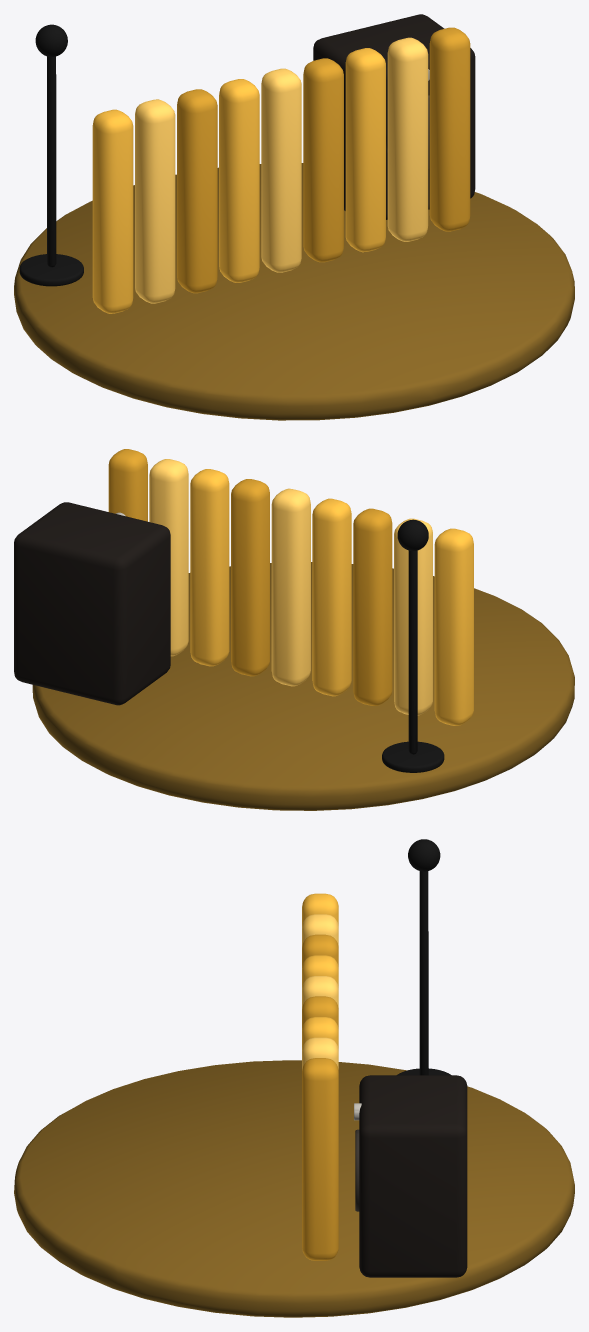
The model's file is strip.glb.
3 views of the same model, one above another, from view 1: azimuth 30°, elevation 25°; view 2: azimuth 150°, elevation 25°; view 3: azimuth 270°, elevation 25° (orthographic). The views are drawn at different scales.
Parts seen in each view (by area): view 1: plat, strip_bar_0, strip_bar_7, strip_bar_8, strip_bar_4, strip_bar_5, strip_bar_1, strip_bar_2, strip_bar_6, strip_bar_3, amp, mpole (+2 smaller); view 2: plat, amp, strip_bar_3, strip_bar_4, strip_bar_6, strip_bar_0, strip_bar_2, strip_bar_5, strip_bar_1, strip_bar_7, strip_bar_8, mpole (+2 smaller); view 3: plat, amp, strip_bar_8, mpole, mic, strip_bar_0, strip_bar_2, strip_bar_3, strip_bar_6, strip_bar_4, strip_bar_5, strip_bar_1 (+1 smaller).
Part boxes in pixels (<box>): plat: <box>14,163,574,420</box>; strip_bar_0: <box>92,109,133,313</box>; strip_bar_7: <box>387,37,428,241</box>; strip_bar_8: <box>429,27,470,231</box>; strip_bar_4: <box>261,68,301,272</box>; strip_bar_5: <box>303,58,343,262</box>; strip_bar_1: <box>135,99,175,303</box>; strip_bar_2: <box>177,89,217,293</box>; strip_bar_6: <box>345,48,385,252</box>; strip_bar_3: <box>219,79,259,282</box>; amp: <box>313,14,475,219</box>; mpole: <box>47,56,56,267</box>; plat: <box>32,562,574,810</box>; amp: <box>14,502,170,705</box>; strip_bar_3: <box>312,498,351,696</box>; strip_bar_4: <box>271,488,310,686</box>; strip_bar_6: <box>190,469,229,666</box>; strip_bar_0: <box>434,528,473,725</box>; strip_bar_2: <box>353,508,392,705</box>; strip_bar_5: <box>231,479,269,676</box>; strip_bar_1: <box>394,518,432,715</box>; strip_bar_7: <box>149,459,188,656</box>; strip_bar_8: <box>108,449,147,521</box>; mpole: <box>408,550,417,754</box>; plat: <box>14,1060,574,1317</box>; amp: <box>359,1075,467,1277</box>; strip_bar_8: <box>302,1058,338,1260</box>; mpole: <box>419,871,428,1075</box>; mic: <box>408,839,440,871</box>; strip_bar_0: <box>302,893,338,926</box>; strip_bar_2: <box>302,934,338,967</box>; strip_bar_3: <box>302,955,338,987</box>; strip_bar_6: <box>302,1017,338,1049</box>; strip_bar_4: <box>302,976,338,1008</box>; strip_bar_5: <box>302,996,338,1029</box>; strip_bar_1: <box>302,914,338,946</box>.
Bounding box in the file's own units: 2.59 × 1.4 × 2.6.
